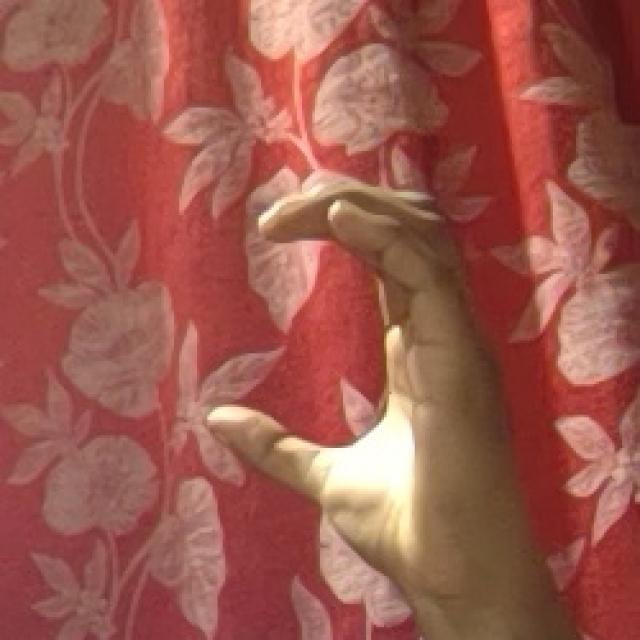Alphabet-C: (207, 174, 581, 640)
